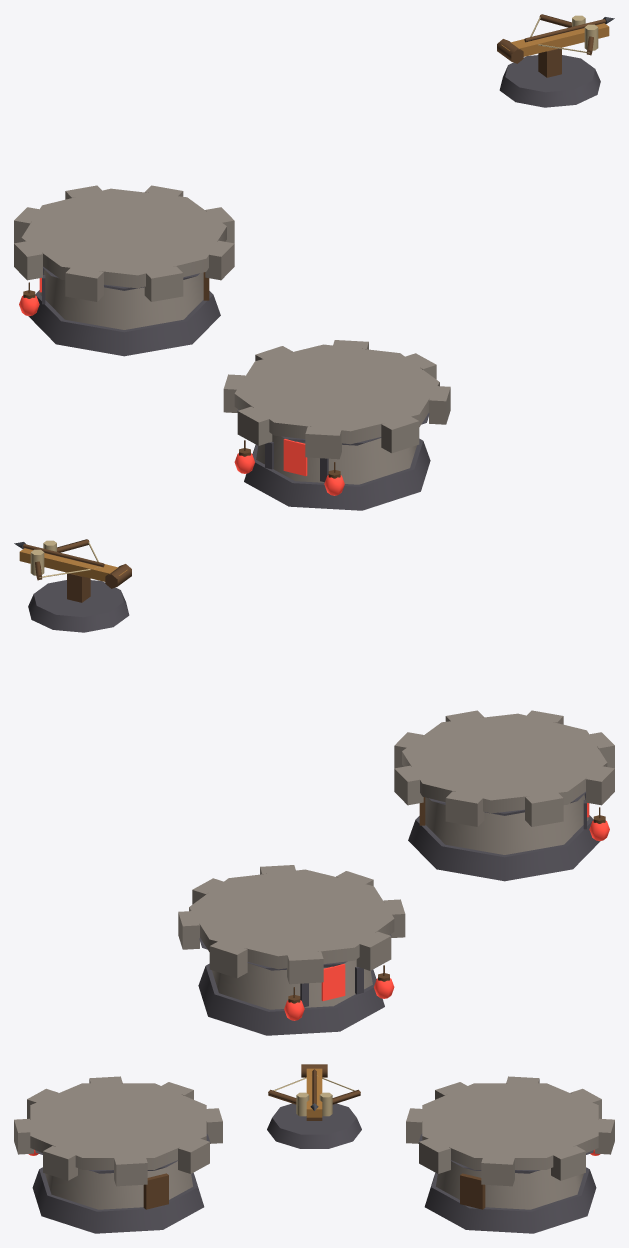
File: base_standard_weapon_2.glb
3 renders of one model, top to bottom at view 1: azimuth 30°, elevation 25°; view 2: azimuth 150°, elevation 25°; view 3: azimuth 270°, elevation 25°, orthographic. The views are drawn at different scales.
Parts seen in each view (by area): view 1: tower_slot_2_plate, tower_slot_1_plate, tower_slot_1_footing, tower_slot_2_footing, tower_slot_1_tower, weapon_mount, tower_slot_2_tower, tower_slot_1_merlon_5, ballista_stock, tower_slot_2_merlon_6, tower_slot_1_merlon_6, tower_slot_2_merlon_7 (+5 smaller); view 2: tower_slot_1_plate, tower_slot_2_plate, tower_slot_2_footing, tower_slot_1_footing, tower_slot_2_tower, weapon_mount, tower_slot_1_tower, tower_slot_2_merlon_2, tower_slot_1_merlon_1, ballista_stock, tower_slot_2_merlon_1, tower_slot_1_merlon_0 (+5 smaller); view 3: tower_slot_2_plate, tower_slot_1_plate, tower_slot_1_footing, tower_slot_2_footing, tower_slot_1_tower, tower_slot_2_tower, weapon_mount, tower_slot_1_merlon_3, tower_slot_2_merlon_4, tower_slot_2_merlon_5, tower_slot_1_merlon_2, tower_slot_1_merlon_4 (+14 smaller).
Boxes of the visible parts, left/top/right/bottom form: tower_slot_2_plate: left=234, top=344, right=439, bottom=444; tower_slot_1_plate: left=21, top=188, right=226, bottom=288; tower_slot_1_footing: left=28, top=290, right=220, bottom=356; tower_slot_2_footing: left=244, top=438, right=430, bottom=510; tower_slot_1_tower: left=40, top=269, right=203, bottom=329; weapon_mount: left=499, top=55, right=600, bottom=107; tower_slot_2_tower: left=256, top=434, right=416, bottom=484; tower_slot_1_merlon_5: left=144, top=266, right=183, bottom=301; ballista_stock: left=501, top=23, right=609, bottom=56; tower_slot_2_merlon_6: left=381, top=416, right=419, bottom=453; tower_slot_1_merlon_6: left=65, top=268, right=103, bottom=301; tower_slot_2_merlon_7: left=305, top=426, right=341, bottom=459; tower_slot_1_plate: left=189, top=869, right=394, bottom=969; tower_slot_2_plate: left=402, top=713, right=607, bottom=813; tower_slot_2_footing: left=408, top=815, right=600, bottom=881; tower_slot_1_footing: left=198, top=963, right=384, bottom=1035; tower_slot_2_tower: left=425, top=794, right=588, bottom=854; weapon_mount: left=28, top=580, right=129, bottom=632; tower_slot_1_tower: left=212, top=959, right=372, bottom=1009; tower_slot_2_merlon_2: left=445, top=791, right=484, bottom=826; tower_slot_1_merlon_1: left=209, top=941, right=247, bottom=978; ballista_stock: left=19, top=548, right=127, bottom=581; tower_slot_2_merlon_1: left=525, top=793, right=563, bottom=826; tower_slot_1_merlon_0: left=287, top=951, right=323, bottom=984; tower_slot_2_plate: left=30, top=1083, right=206, bottom=1169; tower_slot_1_plate: left=422, top=1083, right=598, bottom=1169; tower_slot_1_footing: left=424, top=1167, right=596, bottom=1233; tower_slot_2_footing: left=32, top=1167, right=204, bottom=1233; tower_slot_1_tower: left=436, top=1161, right=583, bottom=1209; tower_slot_2_tower: left=45, top=1161, right=192, bottom=1209; weapon_mount: left=267, top=1103, right=361, bottom=1148; tower_slot_1_merlon_3: left=481, top=1156, right=514, bottom=1186; tower_slot_2_merlon_4: left=114, top=1156, right=147, bottom=1186; tower_slot_2_merlon_5: left=43, top=1146, right=77, bottom=1180; tower_slot_1_merlon_2: left=551, top=1146, right=585, bottom=1180; tower_slot_1_merlon_4: left=419, top=1138, right=450, bottom=1173.
Bounding box in the file's own units: 0.9745 × 0.547 × 1.13.
